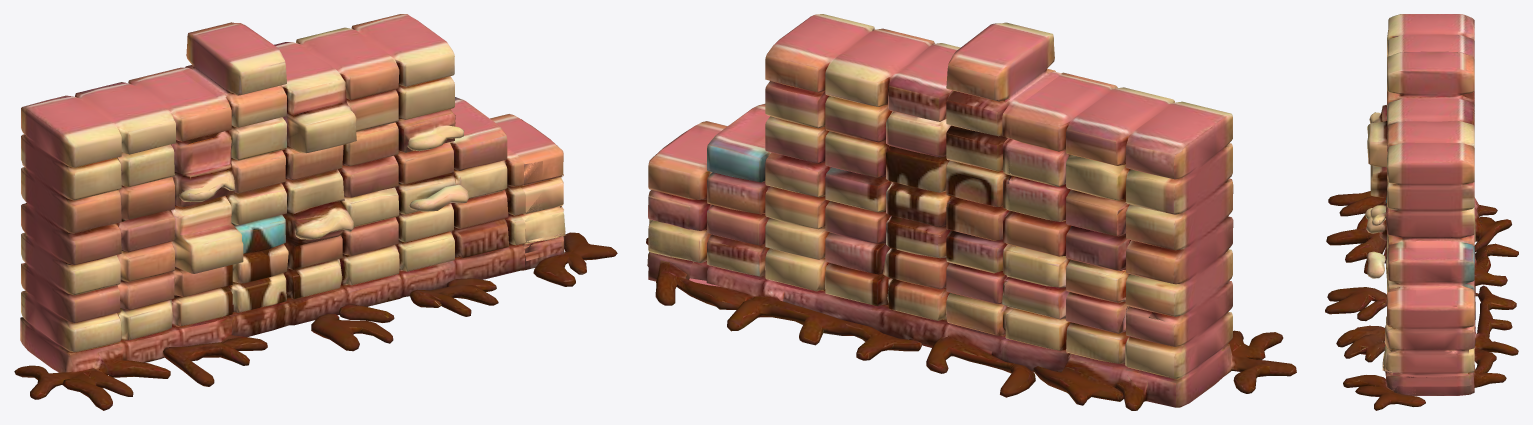
File: train_double.glb
3 renders of one model, left to right at view 1: azimuth 30°, elevation 25°; view 2: azimuth 150°, elevation 25°; view 3: azimuth 270°, elevation 25°, orthographic. The views are drawn at different scales.
Size of the model in its own units: 1.9 by 0.8571 by 0.6849.
Materials: 1 (1 with a texture image).
